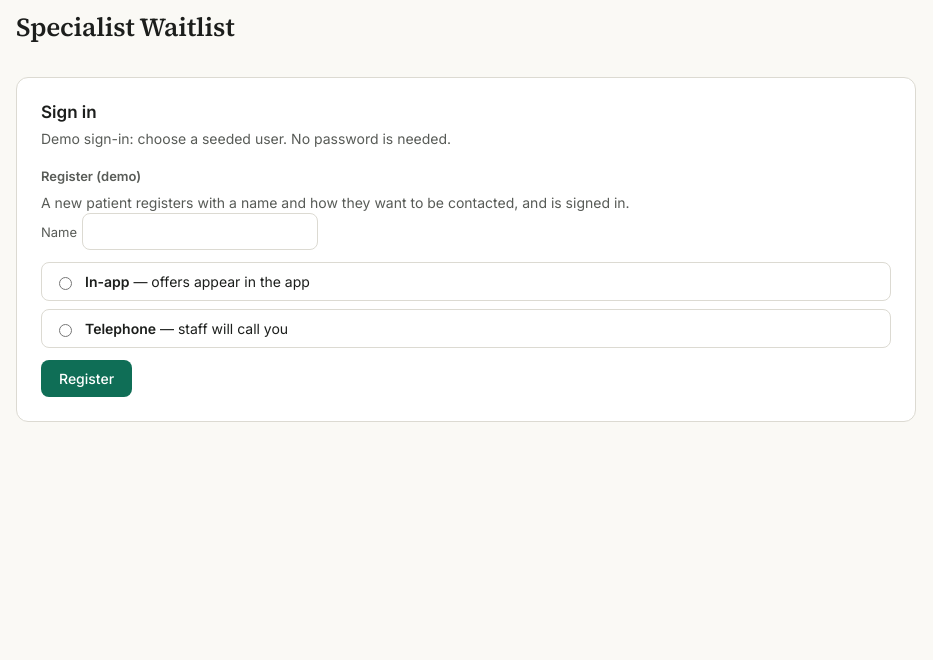
Test: demo registration on the sign-in screen (9.1) › creates nothing and says what is missing for no name
expect the heading "Register (demo)" is shown: met, box [41,168,141,184]
Click the button "Register": coordinates (87, 379) [41,360,132,397]
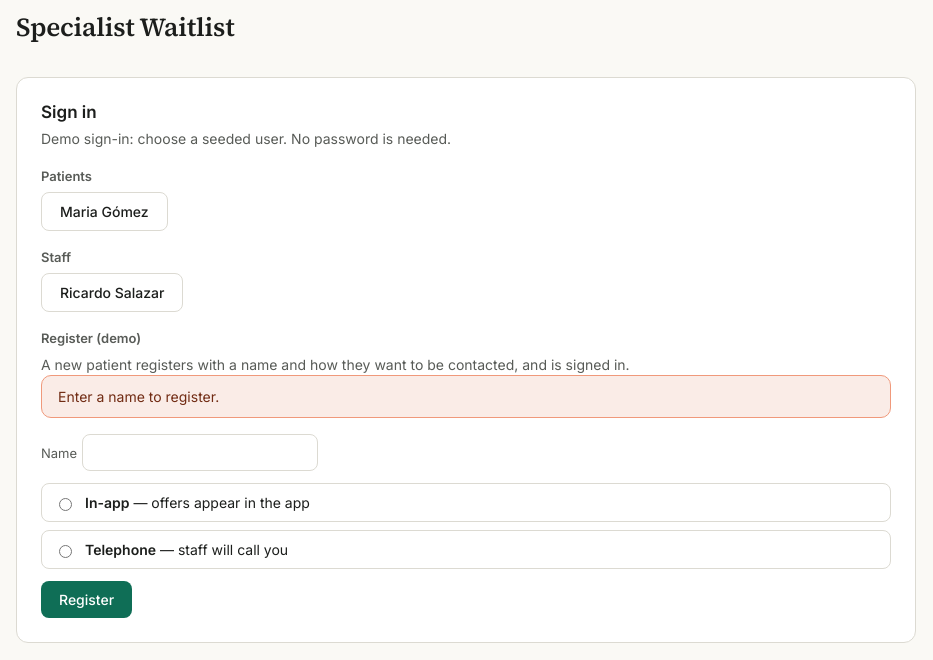
expect the message shows "Enter a name": met, box [58,388,219,405]
